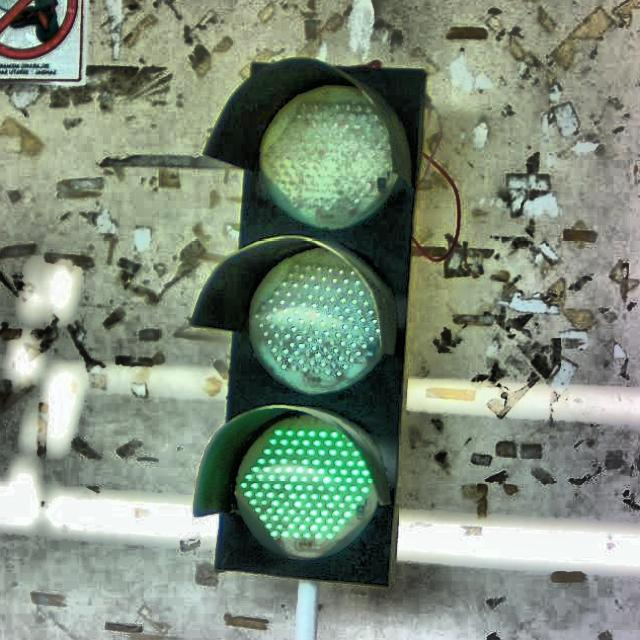green: (192, 64, 428, 582)
